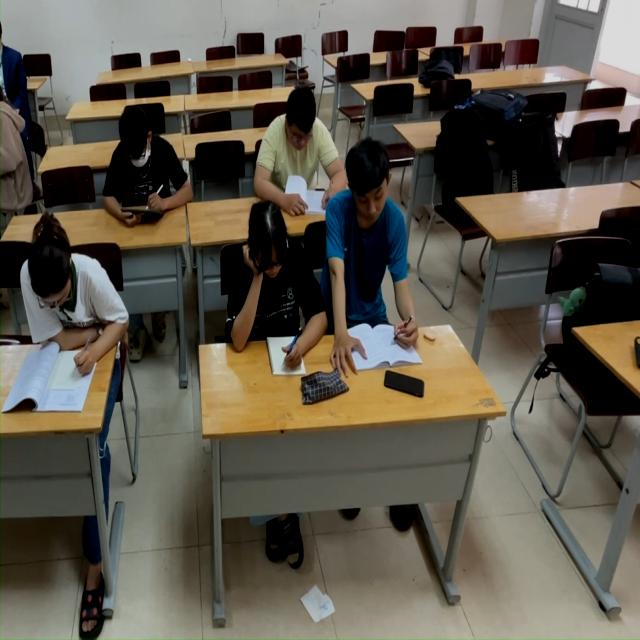read: (24, 211, 121, 414), (336, 152, 423, 368), (217, 206, 325, 378), (99, 69, 199, 229), (280, 89, 343, 216)
